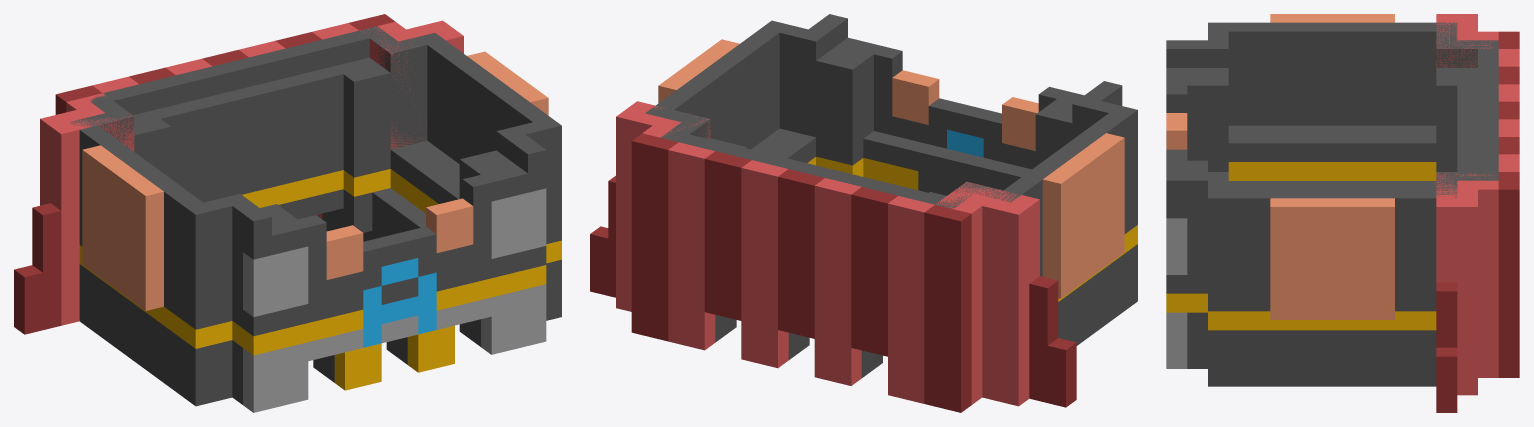
3 views of the same model, side by side, from view 1: azimuth 30°, elevation 25°; view 2: azimuth 150°, elevation 25°; view 3: azimuth 270°, elevation 25° (orthographic).
Parts seen in each view (by area): view 1: 25; view 2: 25; view 3: 25.
Boxes of the visible parts, left/top/right/bottom form: 25: left=14, top=14, right=561, bottom=412; 25: left=590, top=14, right=1137, bottom=412; 25: left=1166, top=14, right=1519, bottom=412.
Size of the model in its own units: 2.6 by 1 by 1.7.
2 materials, 2 textured.
